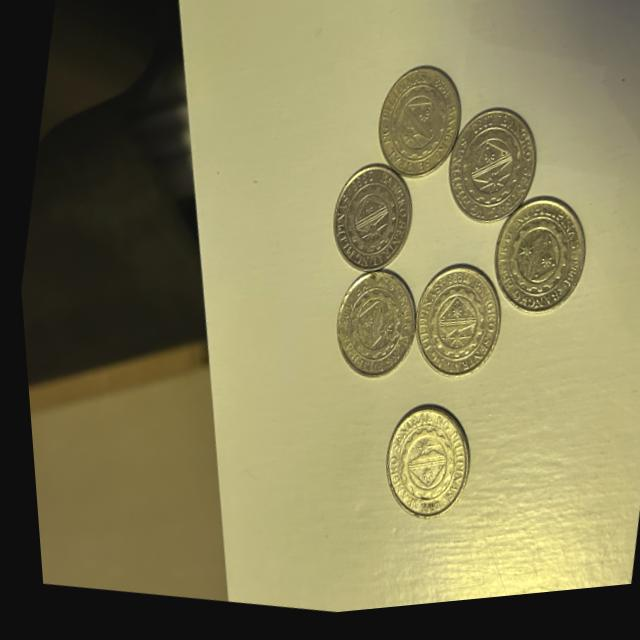1_Old_Back: (493, 211, 581, 320), (446, 119, 529, 228), (374, 80, 460, 181), (328, 177, 412, 278), (414, 278, 493, 377), (383, 424, 460, 520), (332, 284, 406, 379)
